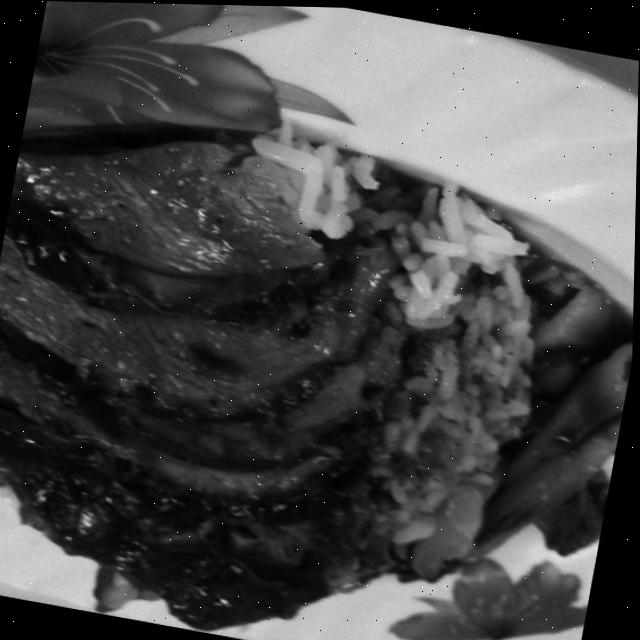米饭主食: (0, 62, 606, 640)
